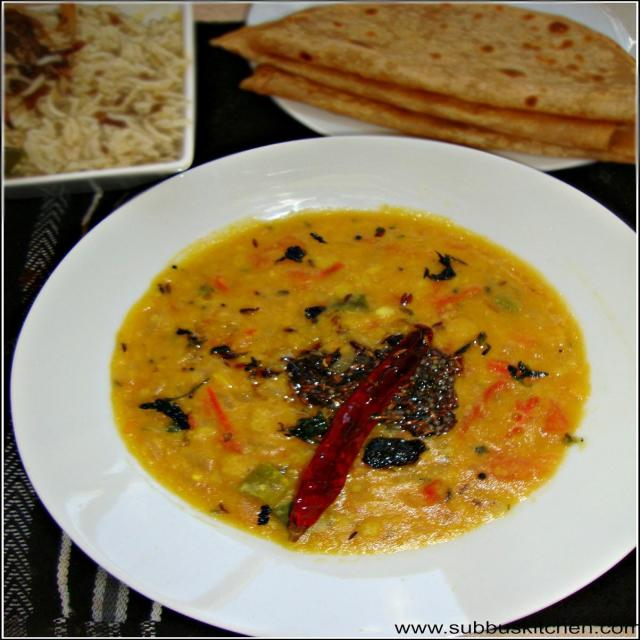dal: (116, 206, 592, 559)
rice: (6, 0, 194, 188)
roti: (240, 5, 640, 128)
